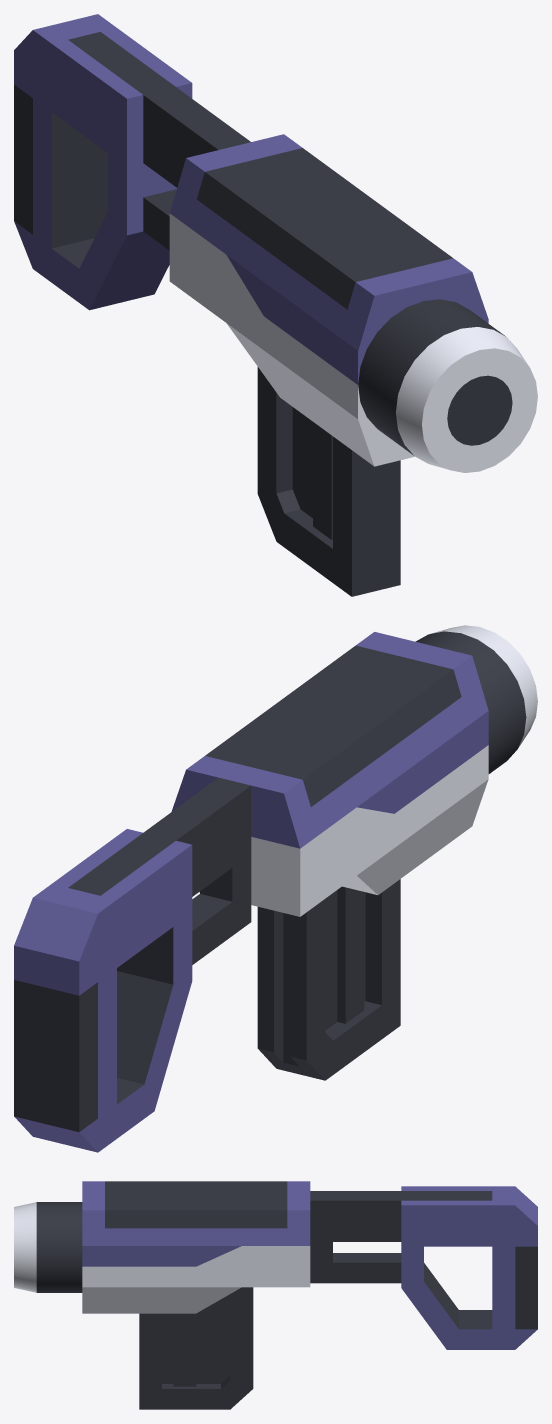
File: GunFour.fbx
3 views of the same model, one above another, from view 1: azimuth 30°, elevation 25°; view 2: azimuth 150°, elevation 25°; view 3: azimuth 270°, elevation 25° (orthographic). The views are drawn at different scales.
Visible parts, largest first — view 1: mergedBlocks; view 2: mergedBlocks; view 3: mergedBlocks.
Part boxes in pixels (x1,y1,x2,y2): mergedBlocks: (14,14,537,596); mergedBlocks: (14,625,537,1152); mergedBlocks: (14,1181,537,1409).
Bounding box in the file's own units: 4 × 10 × 23.
